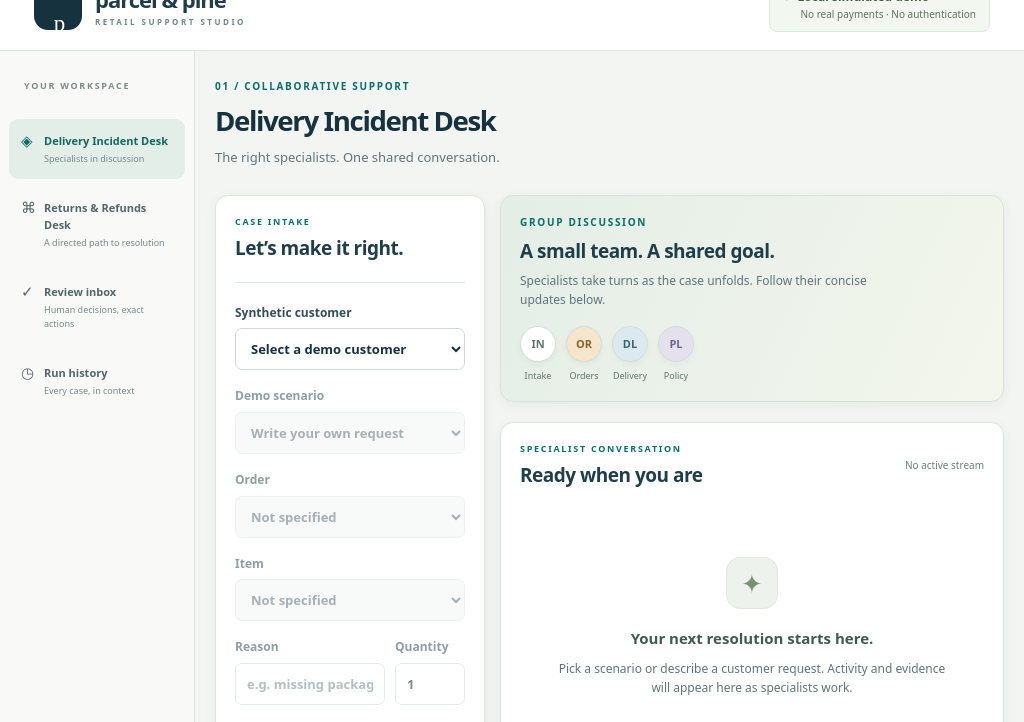
Test case: creates an exact scenario request and continues clarification as a linked run
The width and height of the screenshot is (1024, 722).
Select "Alex Chen · customer-1" in the dropdown labelled "Synthetic customer". click: (350, 349)
box: [235,328,465,370]
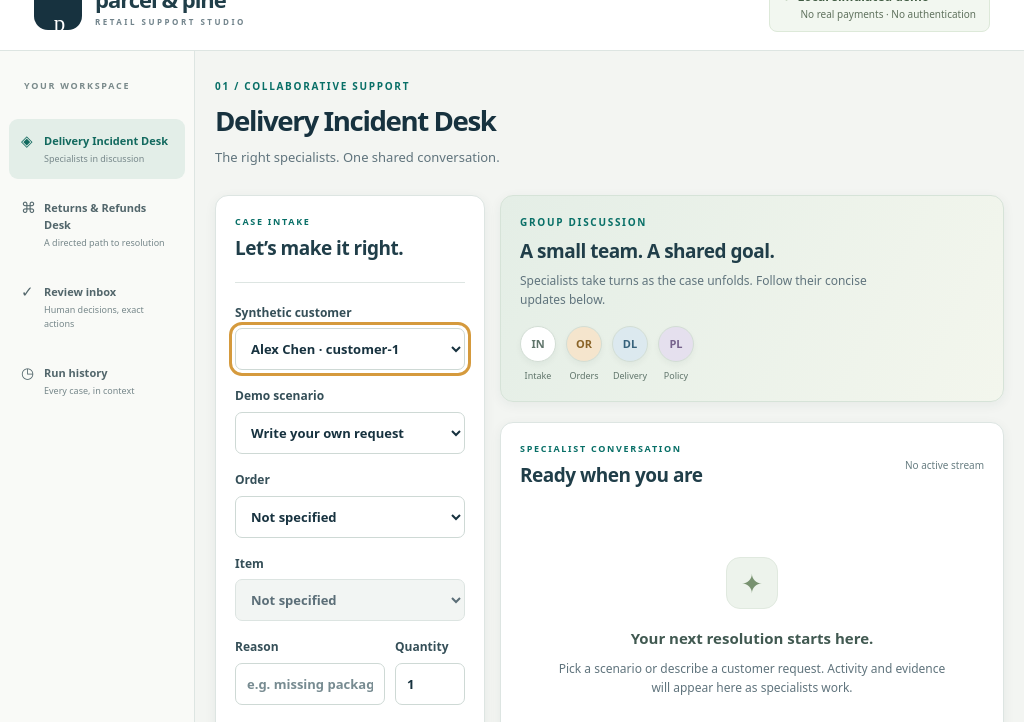
Select "Missing package" in the dropdown labelled "Demo scenario". click: (350, 433)
box: [235,412,465,454]
(page scrolled)
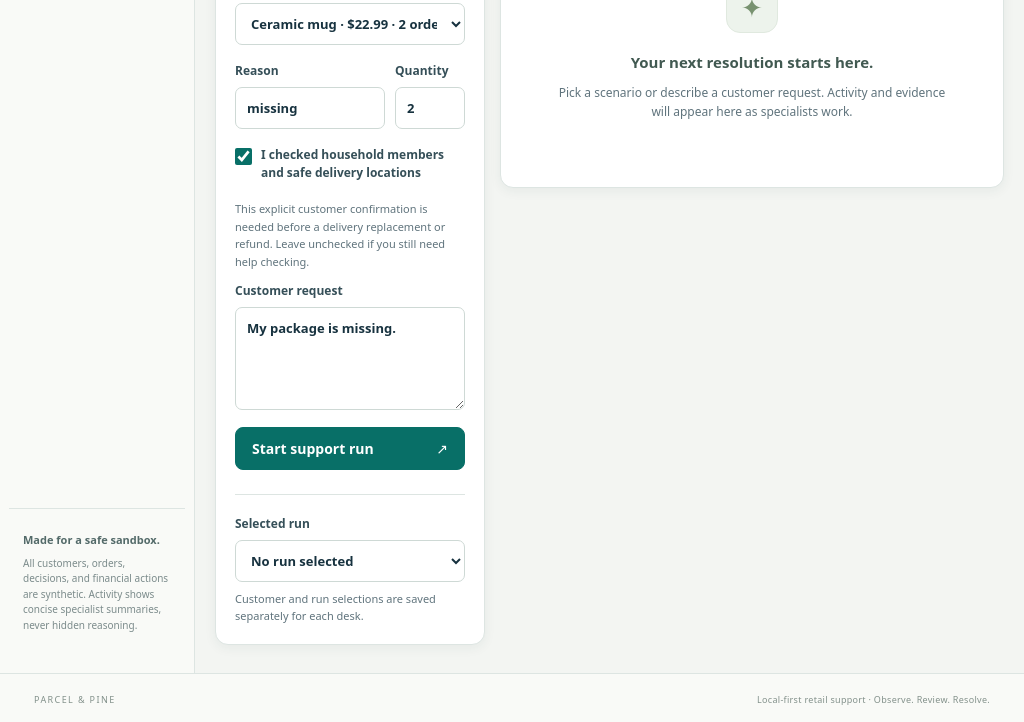
Result: the checkbox labelled "I checked household members and safe delivery locations" is checked at [235,148,252,165]
Click the button "Start support run ↗". click: (350, 448)
box: [235,427,465,470]
(page scrolled)
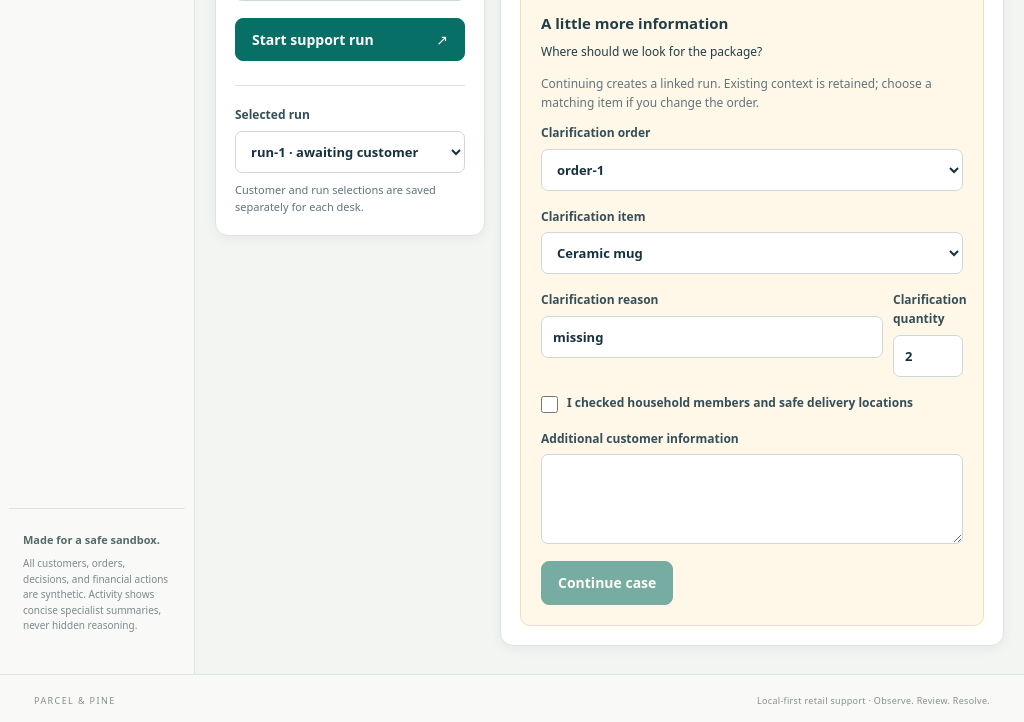
Result: the text "Where should we look for the package?" is shown at [541,43,762,60]
Type "Please check the porch." into the text box labelled "Additional customer information". click: (752, 499)
box: [541,454,963,544]
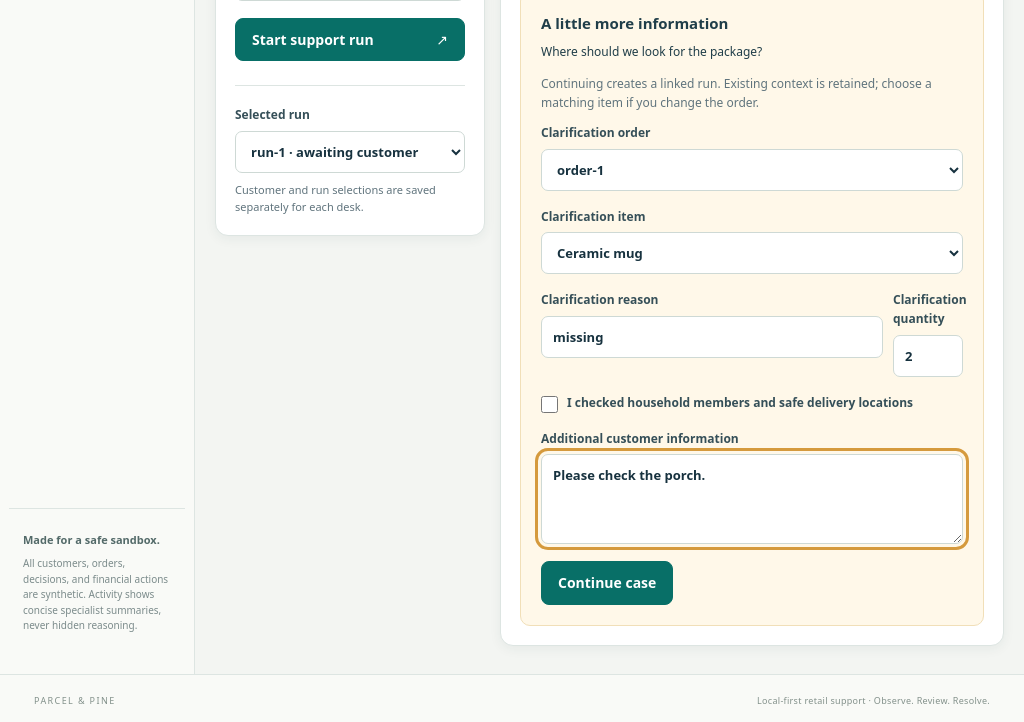
Click the checkbox labelled "I checked household members and safe delivery locations". click: (550, 404)
box: [541,396,558,413]
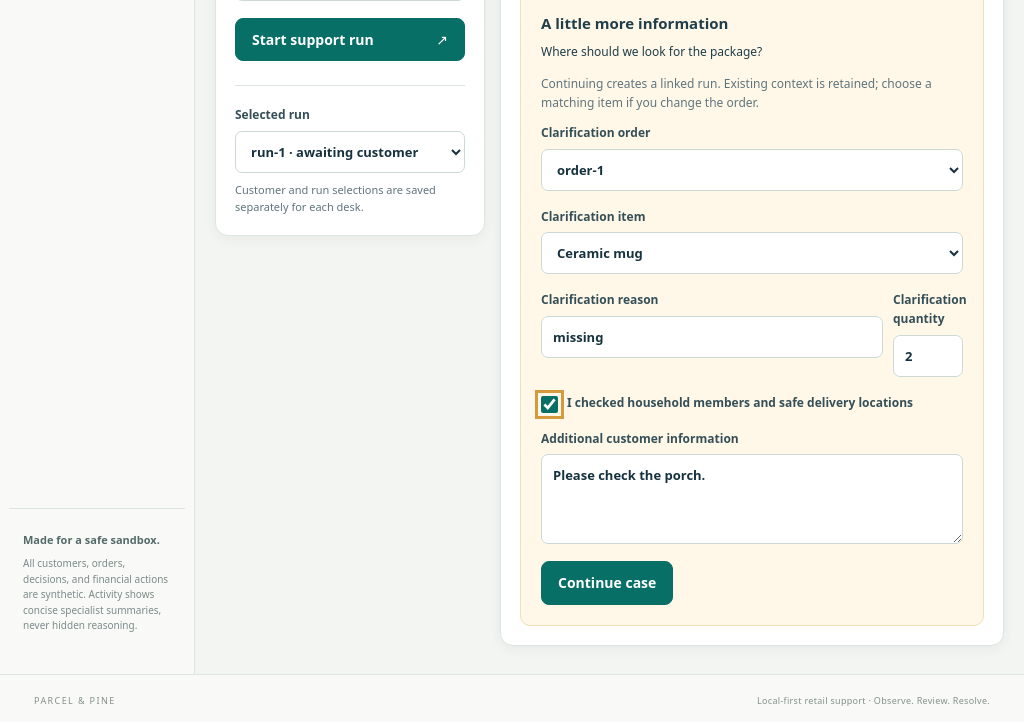
Click the button "Continue case". click: (607, 583)
box: [541,561,673,605]
(page scrolled)
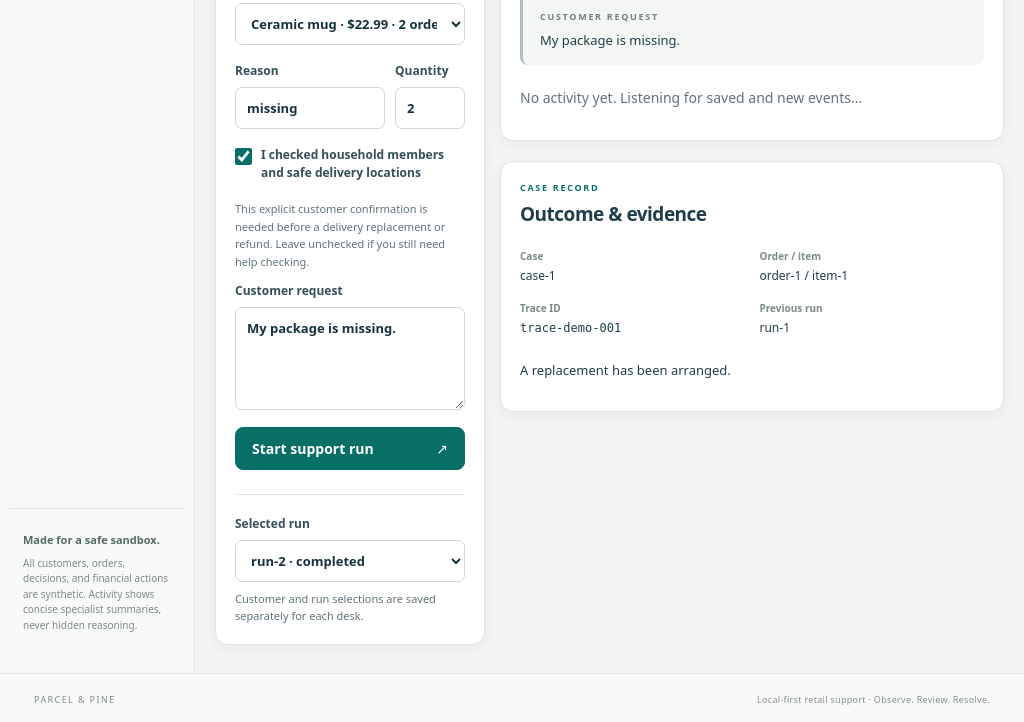
Result: the text "run-1" is shown at [760,319,790,336]
Result: the text "A replacement has been arranged." is shown at [520,361,731,379]
Result: the label labelled "Additional customer information" is gone
